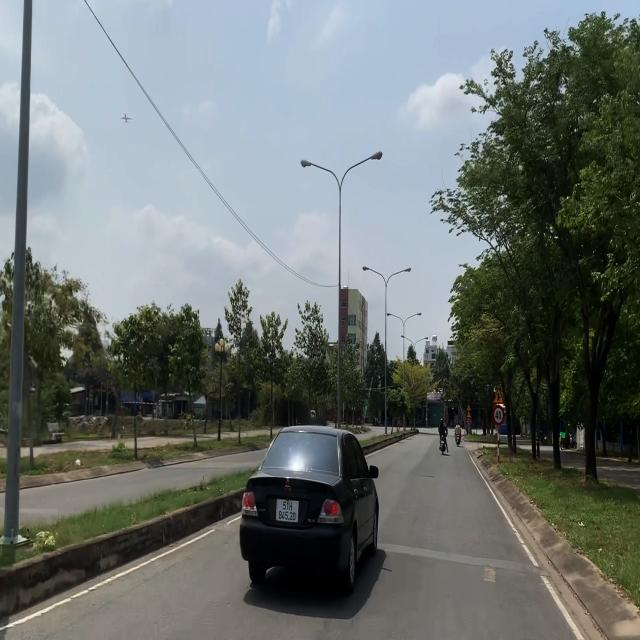Giao voi duong khong uu tien: (492, 388, 504, 405)
Toc do toi da: (493, 407, 504, 424)
